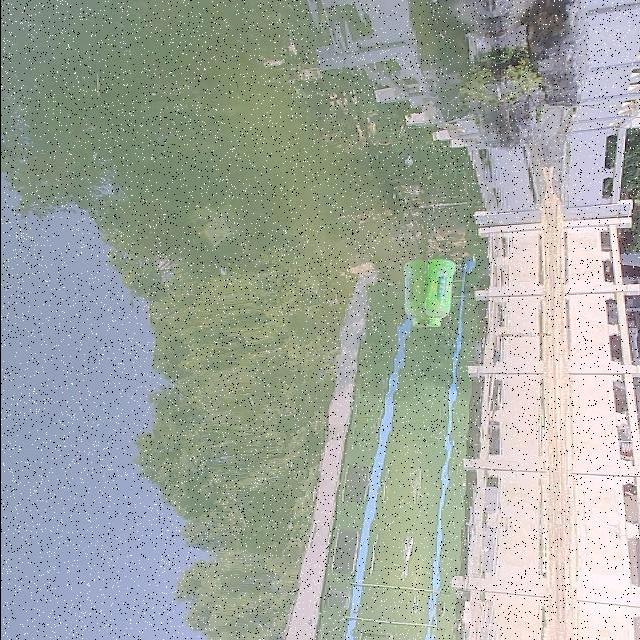Bottle: (413, 249, 462, 337)
